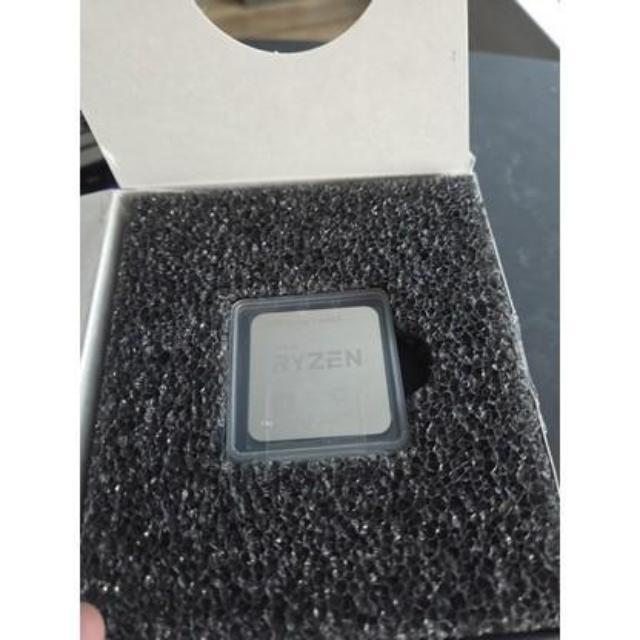CPU: (236, 306, 396, 449)
